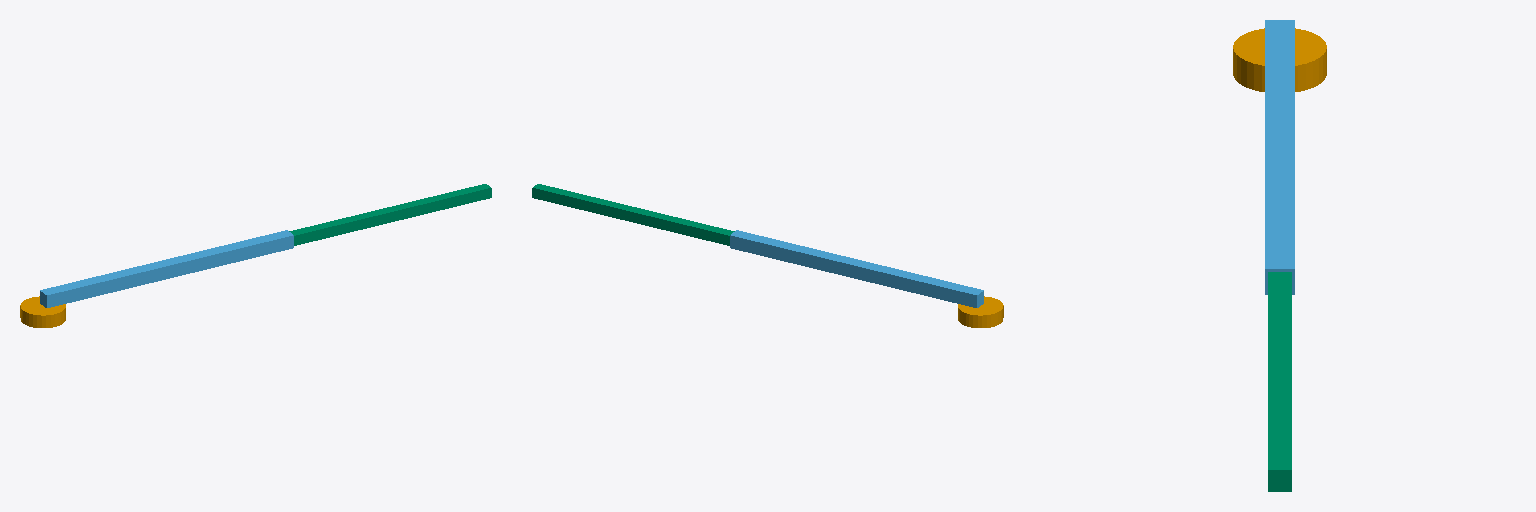
The robot description file, URDF, robot "chiku_arm":
<?xml version="1.0"?>
<robot name="chiku_arm">
  <!-- links are the solid parts, joints connect a parent link to a child link -->
  <link name="base_link">
    <visual>
      <geometry><cylinder radius="0.08" length="0.05"/></geometry>
    </visual>
  </link>

  <link name="link1">
    <visual>
      <origin xyz="0.5 0 0" rpy="0 0 0"/>
      <geometry><box size="1.0 0.05 0.05"/></geometry>
    </visual>
  </link>

  <link name="link2">
    <visual>
      <origin xyz="0.4 0 0" rpy="0 0 0"/>
      <geometry><box size="0.8 0.04 0.04"/></geometry>
    </visual>
  </link>

  <link name="tool"/>

  <joint name="shoulder_joint" type="revolute">
    <parent link="base_link"/>
    <child link="link1"/>
    <origin xyz="0 0 0.05" rpy="0 0 0"/>
    <axis xyz="0 0 1"/>
    <limit lower="-3.14" upper="3.14" effort="10" velocity="1.0"/>
  </joint>

  <joint name="elbow_joint" type="revolute">
    <parent link="link1"/>
    <child link="link2"/>
    <origin xyz="1.0 0 0" rpy="0 0 0"/>      <!-- link1 is 1.0 m long -->
    <axis xyz="0 0 1"/>
    <limit lower="-2.8" upper="2.8" effort="10" velocity="1.0"/>
  </joint>

  <joint name="tool_joint" type="fixed">
    <parent link="link2"/>
    <child link="tool"/>
    <origin xyz="0.8 0 0" rpy="0 0 0"/>      <!-- link2 is 0.8 m long -->
  </joint>
</robot>

--- What the picture shows (computed from the rendered views, not written in the file) ---
The picture shows the robot from 3 angles, left to right: view 1: azimuth 30°, elevation 25°; view 2: azimuth 150°, elevation 25°; view 3: azimuth 270°, elevation 25°; orthographic projection.
Model chiku_arm with 4 links and 3 joints (2 revolute, 1 fixed), rooted at base_link, posed every joint at zero.
Visible links, largest first — view 1: link1, link2, base_link; view 2: link1, link2, base_link; view 3: link1, link2, base_link.
Boxes of the visible links, box(x1,y1,x2,y2) form: link1: box(40, 230, 293, 307); link2: box(289, 184, 491, 245); base_link: box(20, 296, 65, 327); link1: box(730, 230, 983, 307); link2: box(532, 184, 734, 245); base_link: box(958, 296, 1003, 327); link1: box(1265, 20, 1294, 294); link2: box(1268, 272, 1291, 491); base_link: box(1233, 28, 1326, 91).
Size in the robot's own frame: 1.88 by 0.16 by 0.1 metres.
Geometry: primitives only (box / cylinder / sphere), no mesh files.
